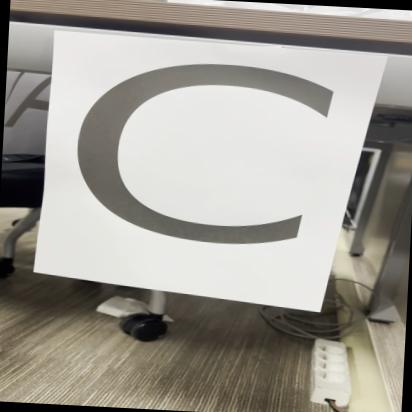seat: (53, 24, 370, 320)
